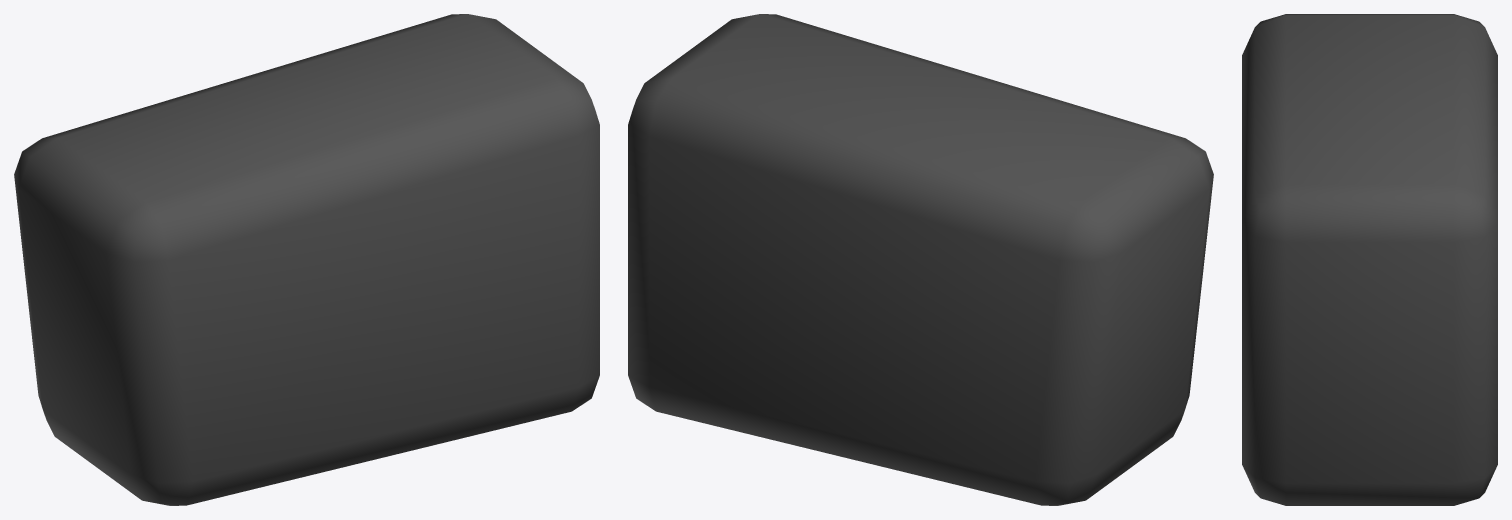
The model's file is wallBlock4.fbx.
3 renders of one model, left to right at view 1: azimuth 30°, elevation 25°; view 2: azimuth 150°, elevation 25°; view 3: azimuth 270°, elevation 25°, orthographic. The views are drawn at different scales.
Visible parts, largest first — view 1: wall.013; view 2: wall.013; view 3: wall.013.
Boxes of the visible parts, x1=… form: wall.013: x1=14, y1=14, x2=599, y2=505; wall.013: x1=628, y1=14, x2=1213, y2=505; wall.013: x1=1242, y1=14, x2=1497, y2=505.
Size of the model in its own units: 97.24 by 63.41 by 45.9.
